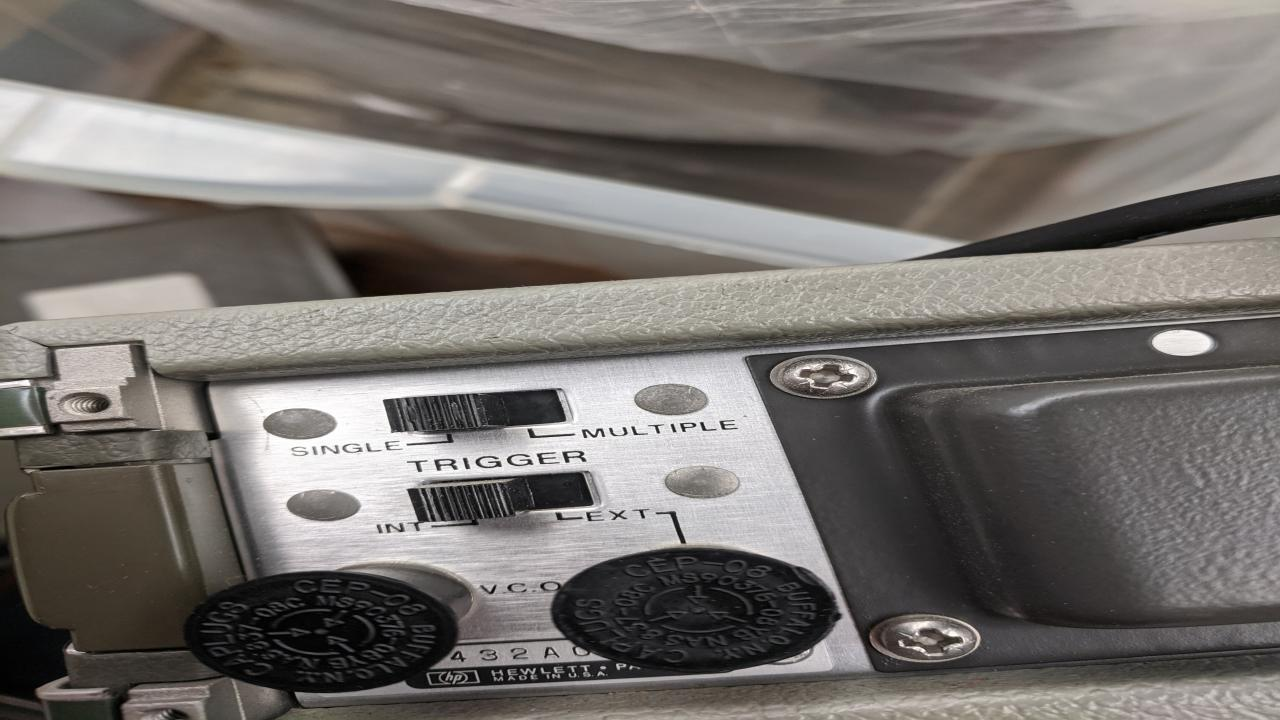CRS: (867, 614, 976, 664), (770, 354, 882, 398)
